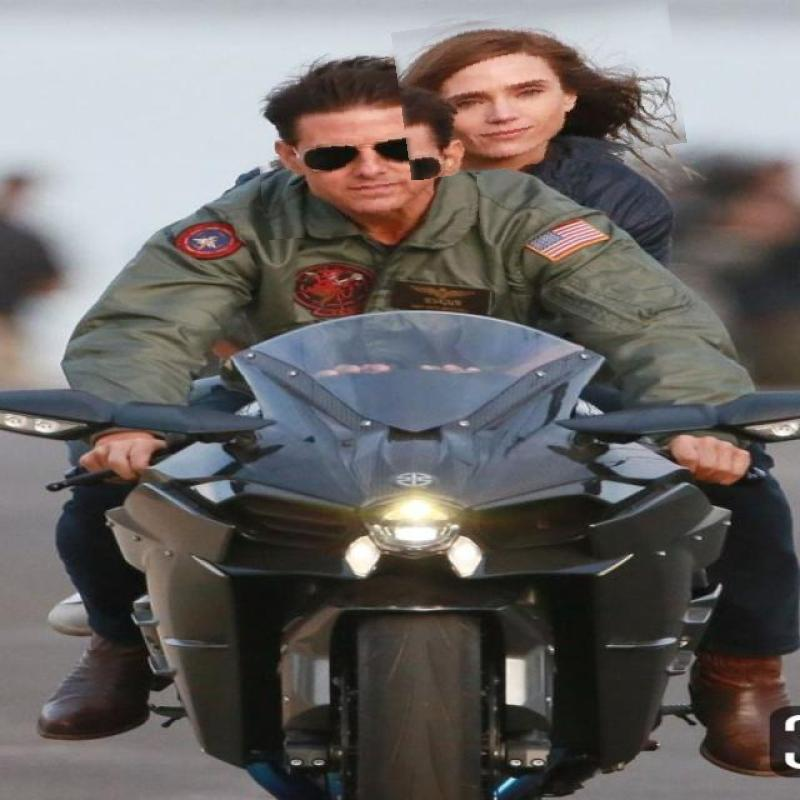nohelmet: (395, 3, 682, 172), (255, 49, 477, 237)
